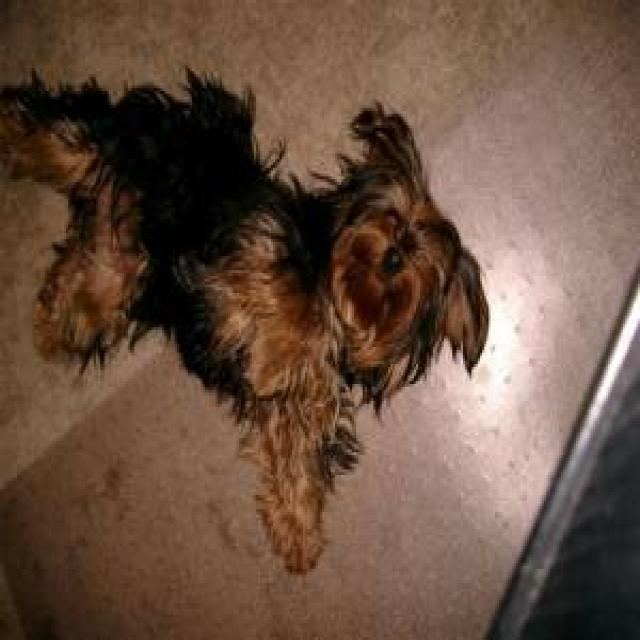dog-yorkshire_terrier: (2, 74, 499, 583)
